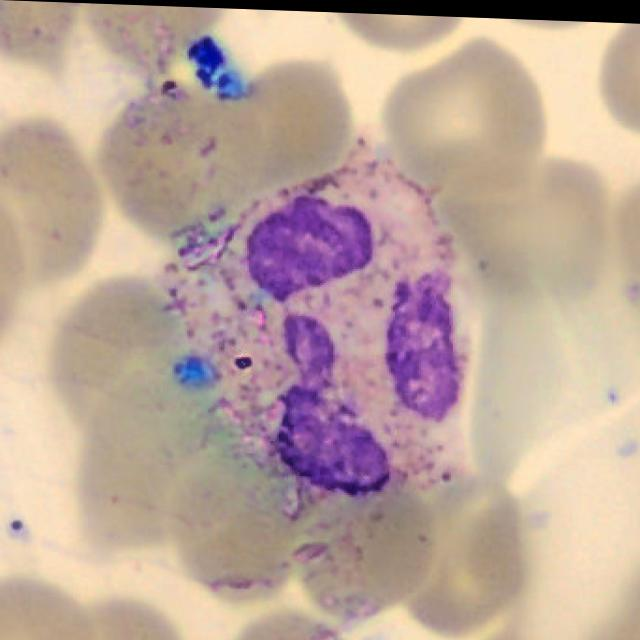Neutrofilo segmentado: (161, 138, 481, 515)
